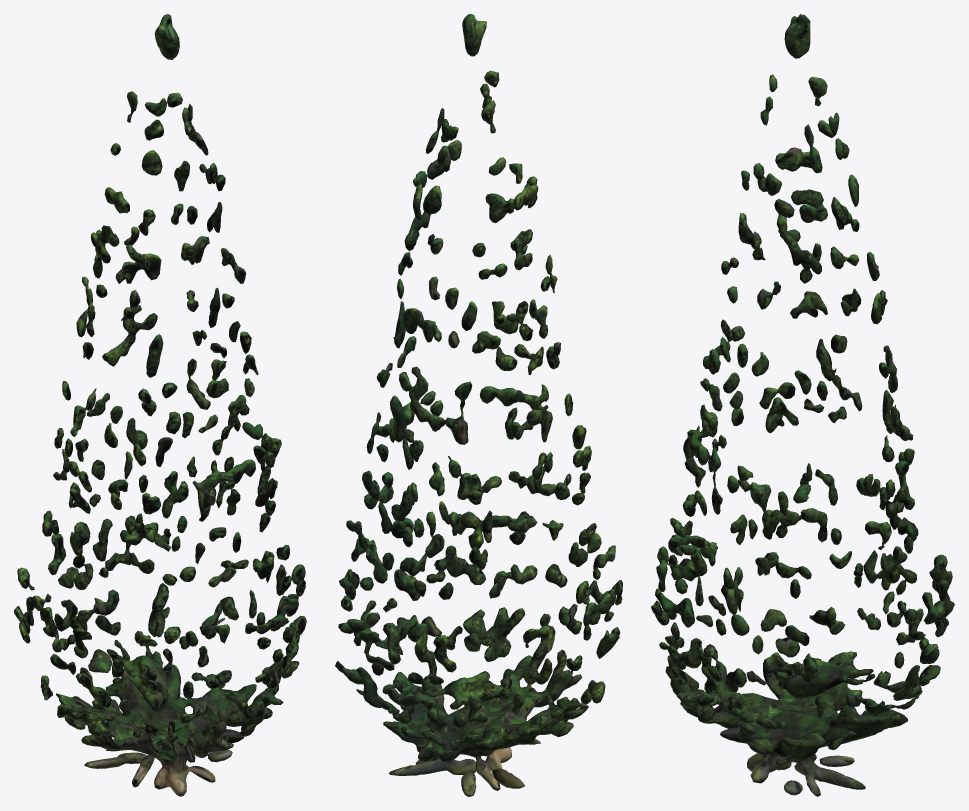
Rendered from AI_UprightBush.fbx.
3 views of the same model, side by side, from view 1: azimuth 30°, elevation 25°; view 2: azimuth 150°, elevation 25°; view 3: azimuth 270°, elevation 25° (orthographic).
Visible parts, largest first — view 1: Mesh1; view 2: Mesh1; view 3: Mesh1.
Part boxes in pixels (<box>): Mesh1: <box>14,14,306,796</box>; Mesh1: <box>335,14,622,796</box>; Mesh1: <box>651,14,954,796</box>.
Size of the model in its own units: 70.29 by 200 by 71.49.
Materials: 1 (1 with a texture image).
